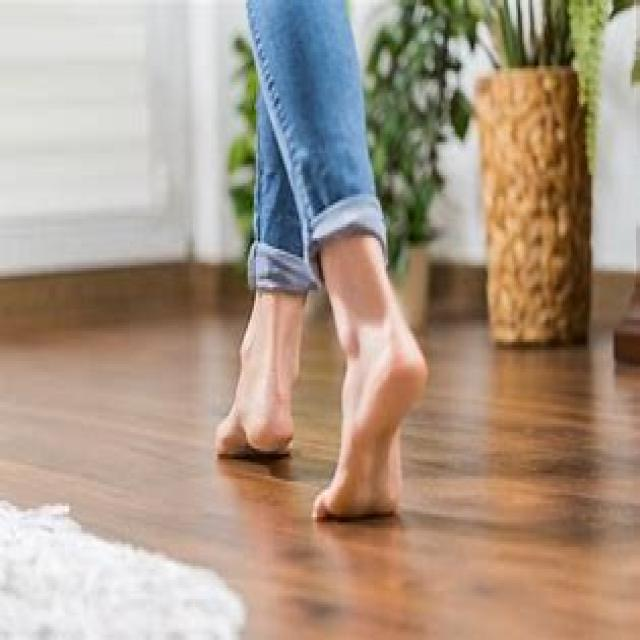no_boots: (212, 217, 320, 498), (309, 303, 435, 541)
